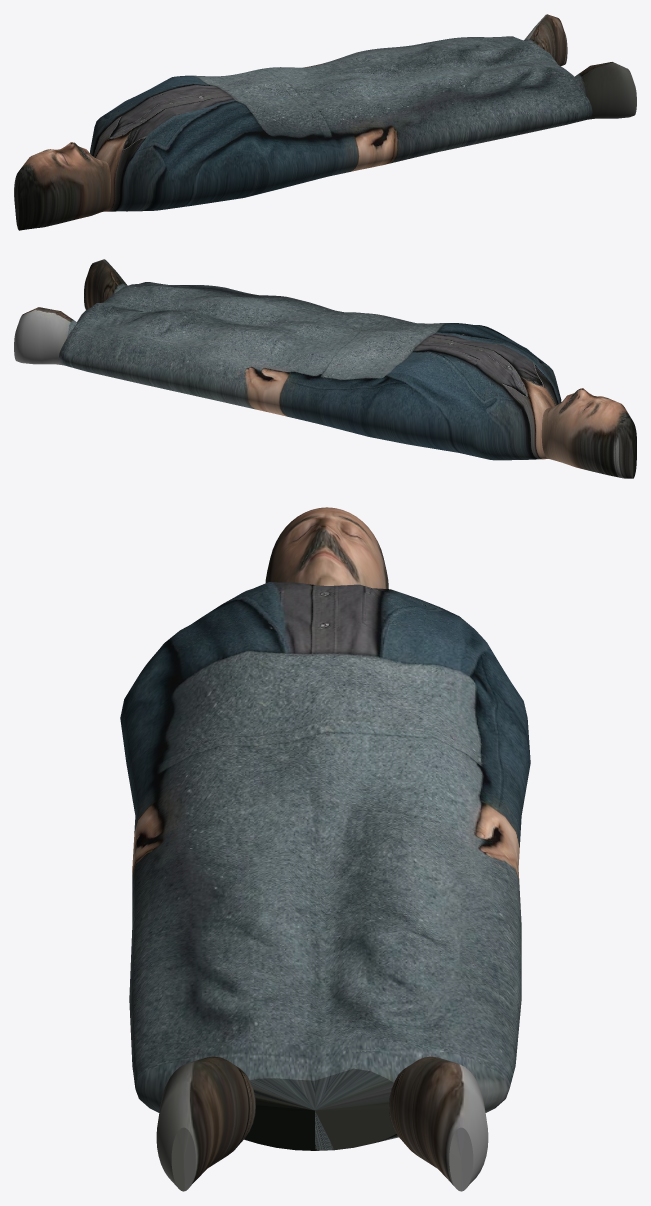
Rendered from mahmut.glb.
The picture shows the model from 3 angles, top to bottom: view 1: azimuth 30°, elevation 25°; view 2: azimuth 150°, elevation 25°; view 3: azimuth 270°, elevation 25°; orthographic projection. The views are drawn at different scales.
Parts seen in each view (by area): view 1: mahmut; view 2: mahmut; view 3: mahmut.
Boxes of the visible parts, <box> form: mahmut: <box>14,14,636,230</box>; mahmut: <box>14,259,636,478</box>; mahmut: <box>120,507,530,1191</box>.
Size of the model in its own units: 1.89 by 0.292 by 0.5804.
Materials: 1 (1 with a texture image).
